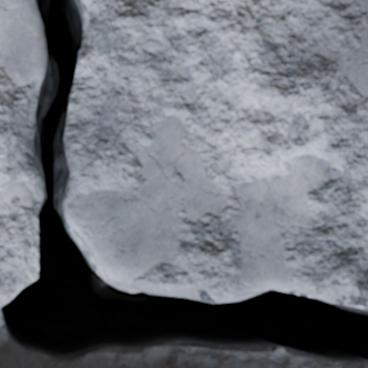broken_brick: (66, 0, 367, 306), (0, 0, 43, 306)
crack: (0, 0, 367, 367)
